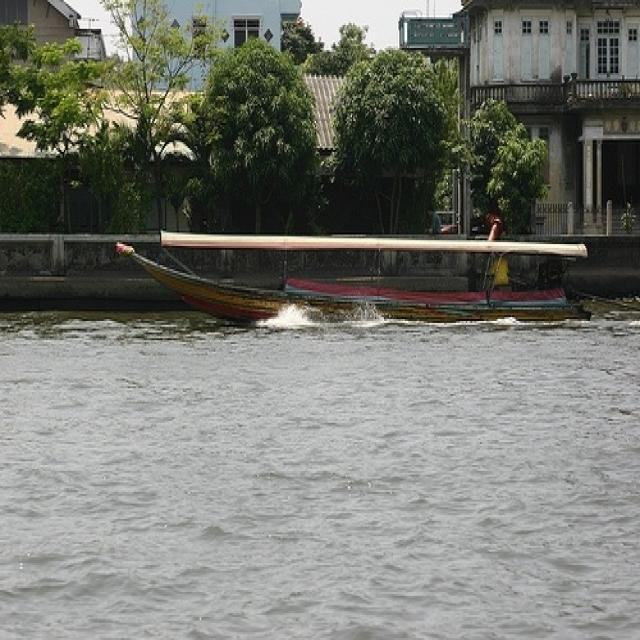boat: (96, 237, 599, 337)
